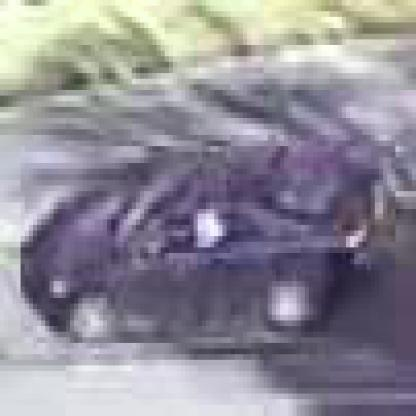car: (22, 147, 401, 350)
